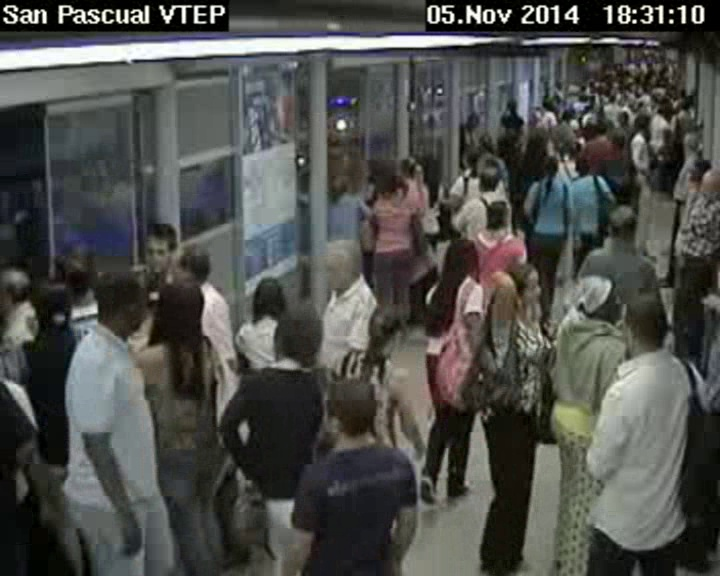person: (148, 276, 219, 354), (322, 374, 377, 444), (96, 270, 151, 336), (620, 293, 673, 356), (573, 271, 623, 329), (277, 304, 322, 365), (493, 260, 542, 314), (322, 237, 365, 294), (46, 245, 94, 294), (167, 243, 217, 289), (141, 218, 178, 279), (367, 302, 406, 358), (438, 234, 483, 282), (36, 284, 74, 334), (248, 272, 287, 319), (604, 197, 641, 241), (1, 267, 38, 304), (549, 121, 574, 155), (326, 171, 354, 199), (369, 166, 399, 192), (697, 166, 720, 198), (475, 166, 503, 191), (484, 200, 506, 230), (526, 125, 547, 152), (423, 160, 443, 186), (633, 113, 652, 140), (536, 155, 561, 175), (496, 132, 517, 154), (464, 145, 484, 168), (573, 157, 591, 179), (655, 131, 672, 153), (655, 98, 672, 118), (683, 131, 700, 150), (593, 122, 609, 141), (501, 99, 521, 114), (608, 130, 626, 146), (541, 96, 559, 112), (409, 158, 424, 177), (613, 108, 629, 125), (558, 108, 574, 124), (465, 112, 480, 129), (478, 135, 492, 150), (678, 97, 691, 112), (583, 103, 596, 112)
